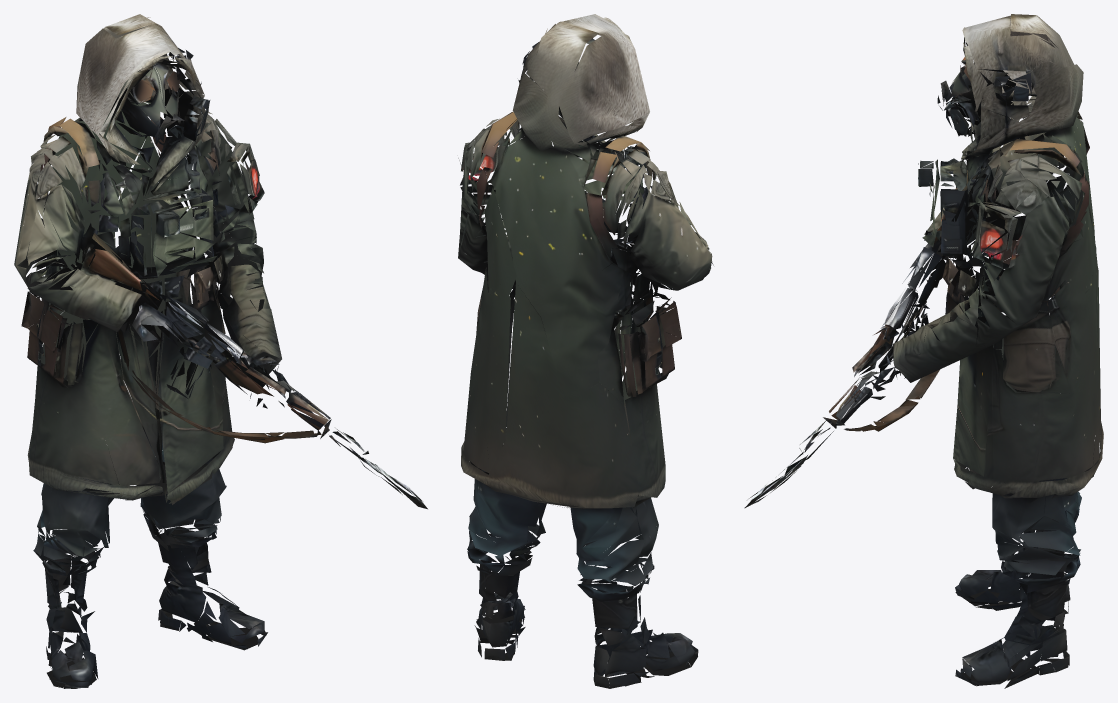
File: char_player_survivor_alt_lod3.glb
3 views of the same model, side by side, from view 1: azimuth 30°, elevation 25°; view 2: azimuth 150°, elevation 25°; view 3: azimuth 270°, elevation 25° (orthographic). The views are drawn at different scales.
Visible parts, largest first — view 1: char_player_survivor_alt_lod3; view 2: char_player_survivor_alt_lod3; view 3: char_player_survivor_alt_lod3.
Part boxes in pixels (left/top/right/bottom): char_player_survivor_alt_lod3: left=14, top=14, right=427, bottom=688; char_player_survivor_alt_lod3: left=458, top=14, right=713, bottom=688; char_player_survivor_alt_lod3: left=744, top=14, right=1103, bottom=688.
Size of the model in its own units: 0.8571 by 1.82 by 0.9658.
Materials: 1 (1 with a texture image).
